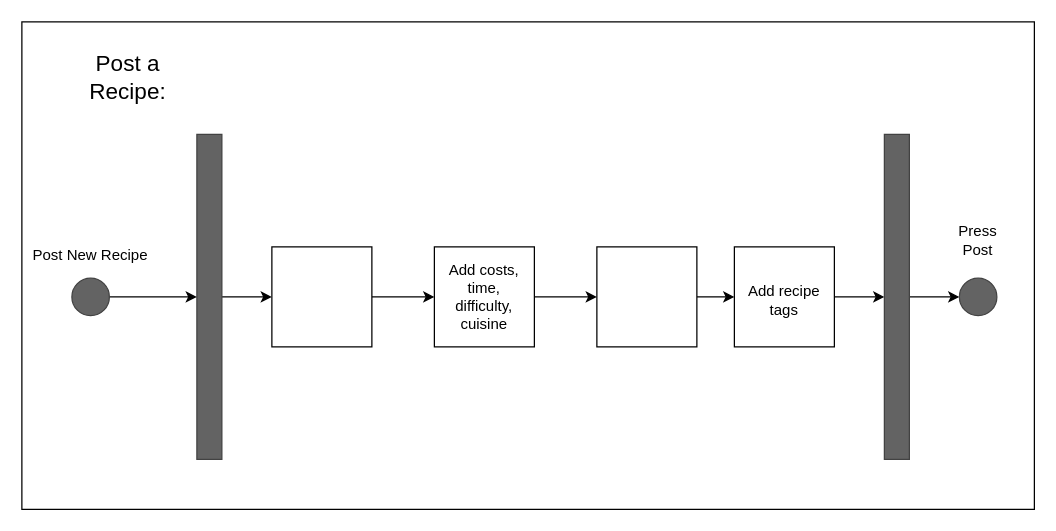
Image size: 1056x531. Some labels were removed from this diagram. Here are the shapes that lost their labels. From the top down, the centre of each, then its label:
At [321,296]: "Add Recipe Pictures".
At [646,296]: "Add recipe ingredients, instructions, and descriptions".
